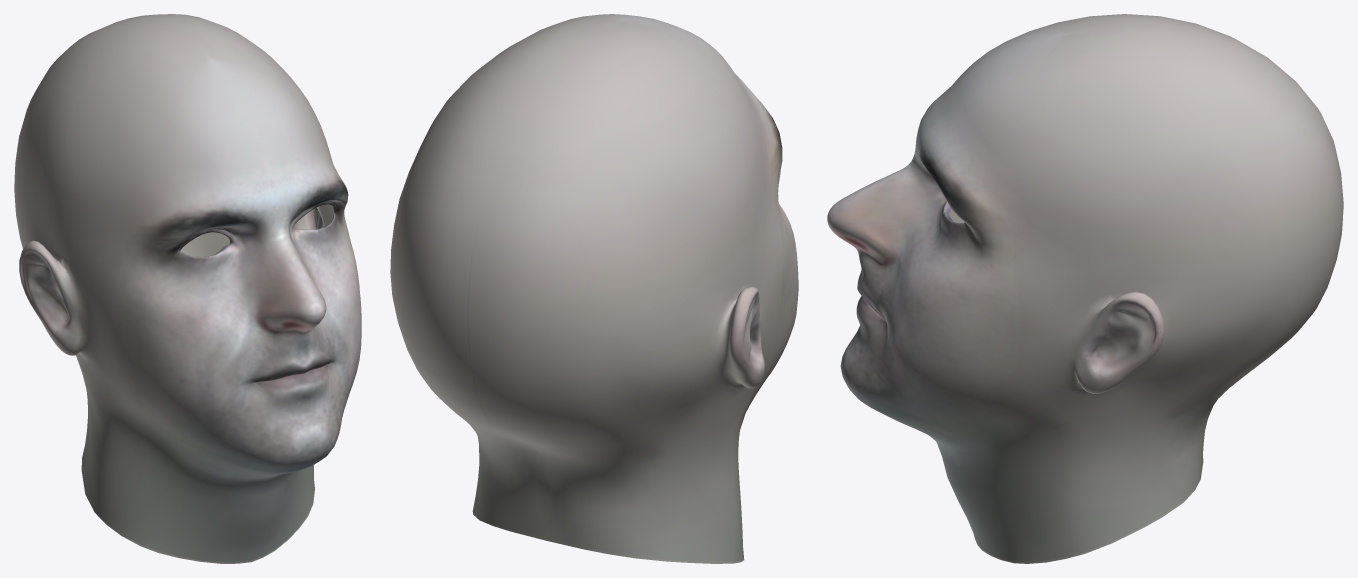
3 views of the same model, side by side, from view 1: azimuth 30°, elevation 25°; view 2: azimuth 150°, elevation 25°; view 3: azimuth 270°, elevation 25° (orthographic). The views are drawn at different scales.
Visible parts, largest first — view 1: FaceGen; view 2: FaceGen; view 3: FaceGen.
Part boxes in pixels (x1,y1,x2,y2): FaceGen: (14,14,361,563); FaceGen: (390,14,798,563); FaceGen: (827,14,1343,563).
Size of the model in its own units: 180 by 277 by 253.
1 material, 1 textured.
